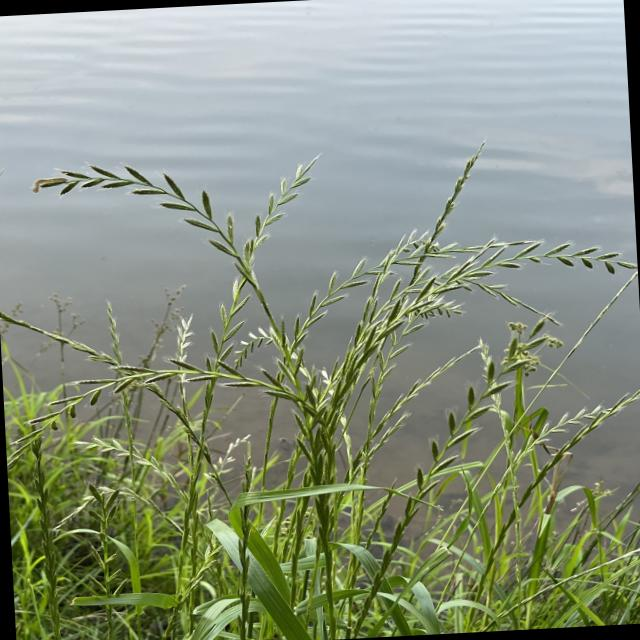Lolium: (0, 154, 334, 489), (317, 137, 640, 426), (334, 312, 570, 639), (317, 237, 638, 432), (190, 153, 342, 419), (28, 158, 272, 316), (8, 354, 330, 466), (479, 398, 640, 570), (398, 140, 498, 304), (24, 432, 62, 632), (225, 477, 267, 640), (88, 485, 125, 627)
